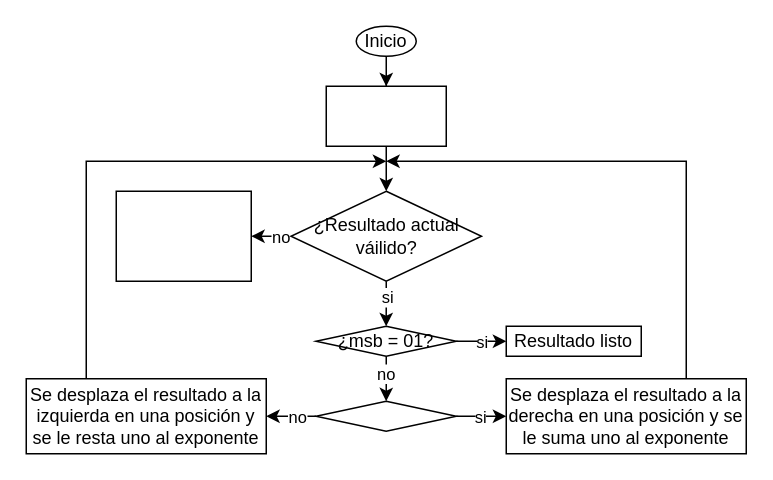
Image size: 773x480. Some labels were removed from this diagram. The box of each missing label's shape, as (x1, y1, x2, y2) in pixels:
Se indica si ocurrió un OF, UF o resultado desnormalizado: (115, 190, 251, 281)
Se tiene como resultado inicial el input: (325, 85, 446, 146)
¿msb = 1X?: (315, 400, 456, 431)
